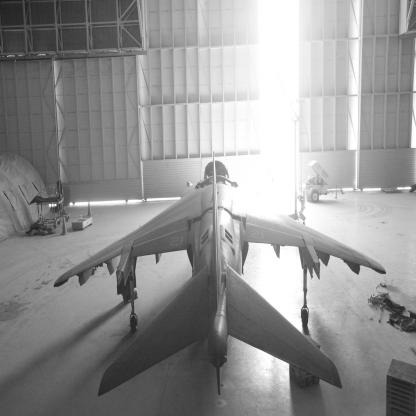AV8B: (54, 152, 387, 397)
